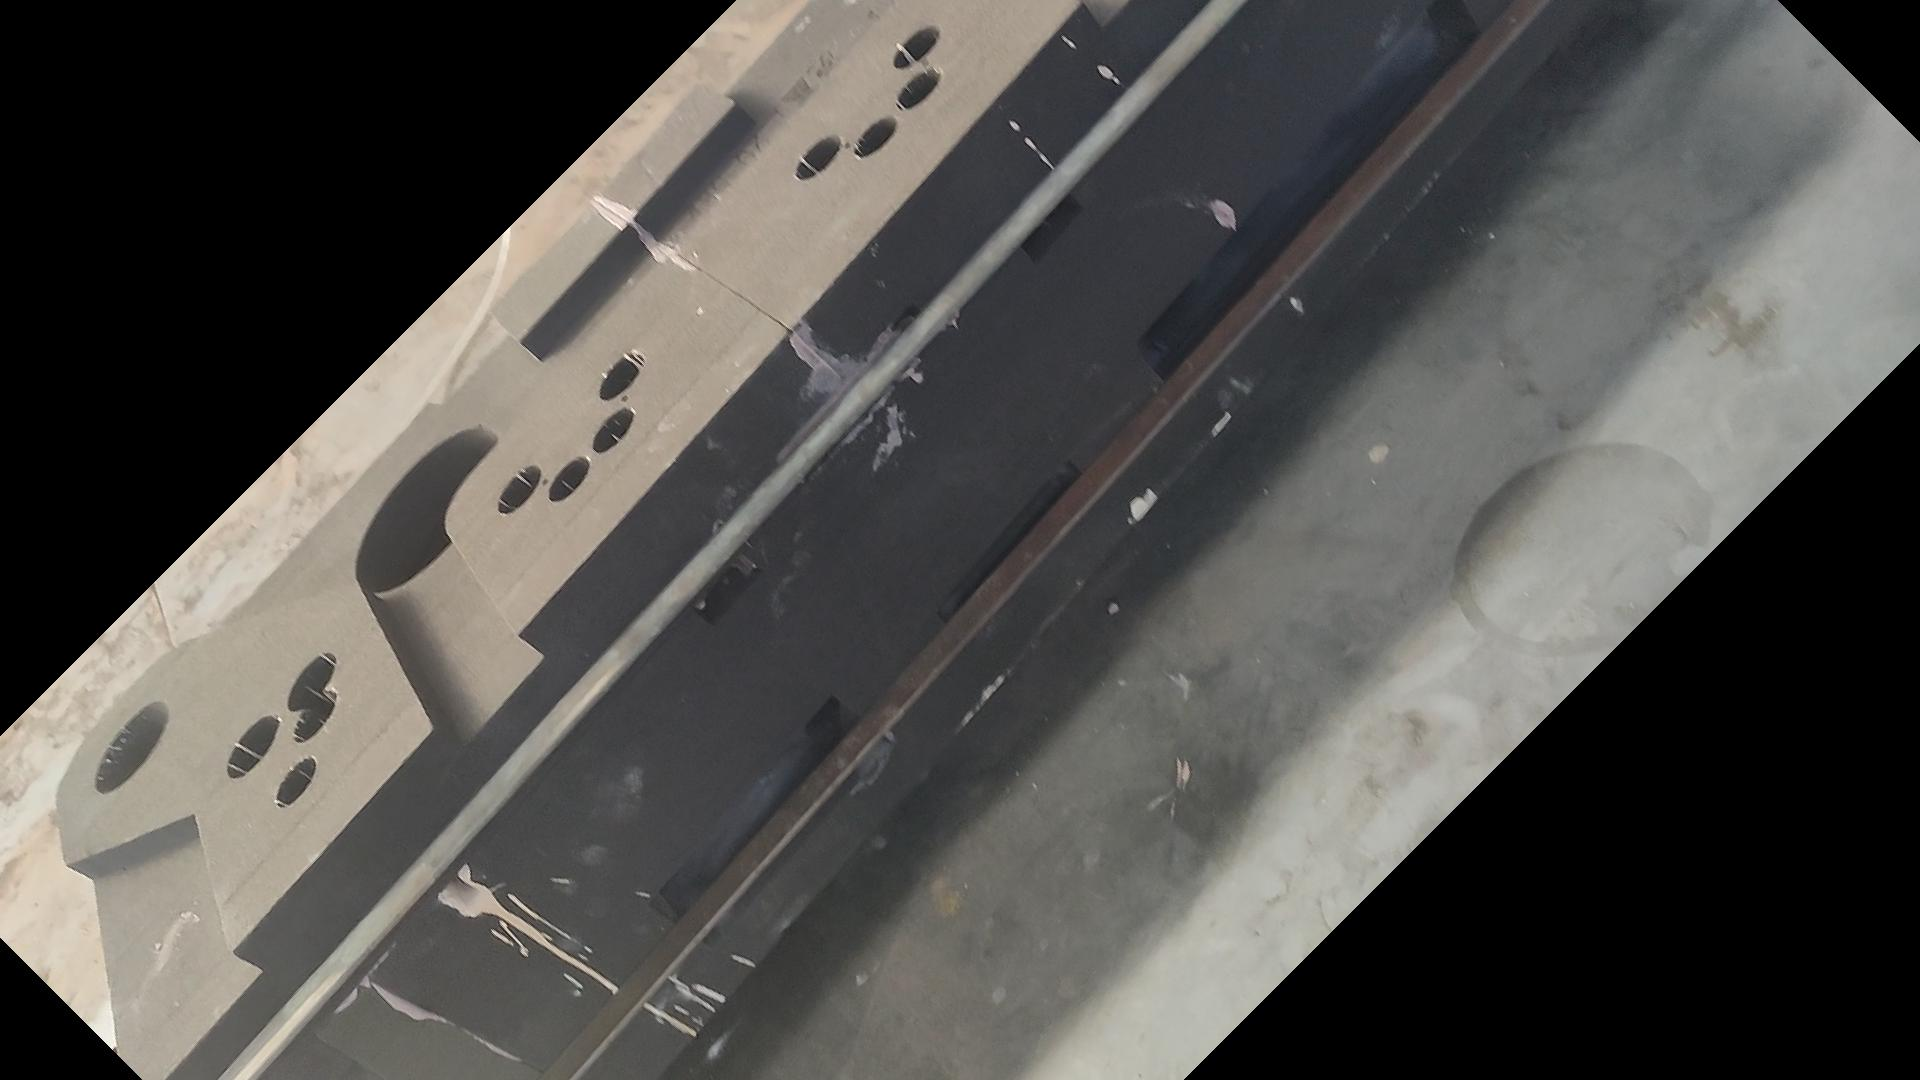pouring hole: (92, 700, 170, 796)
